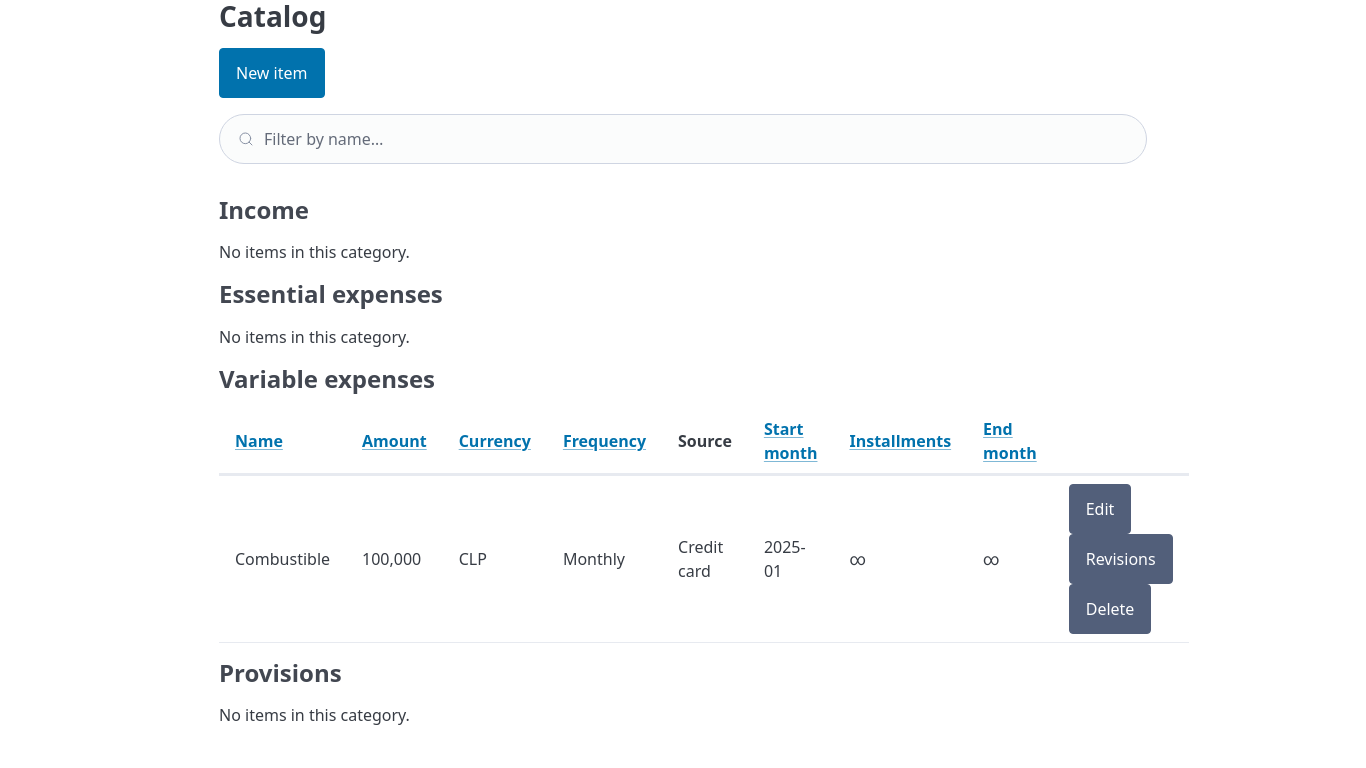
Test case: CatalogView › opens edit dialog pre-filled with item data
Click the button "Edit" at [1100, 509], box [1069,484,1131,534]
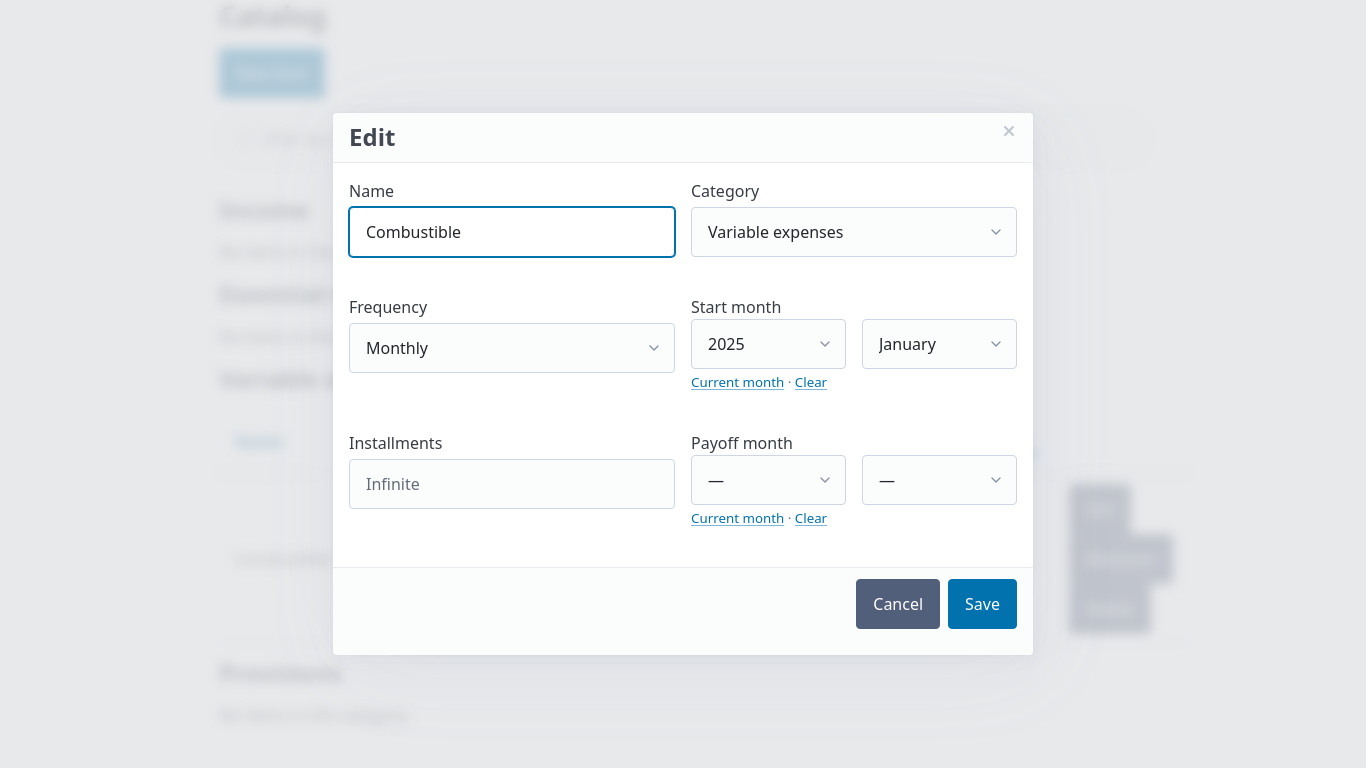
Expected: the field labelled "Name" holds "Combustible", [349,207,675,257]
